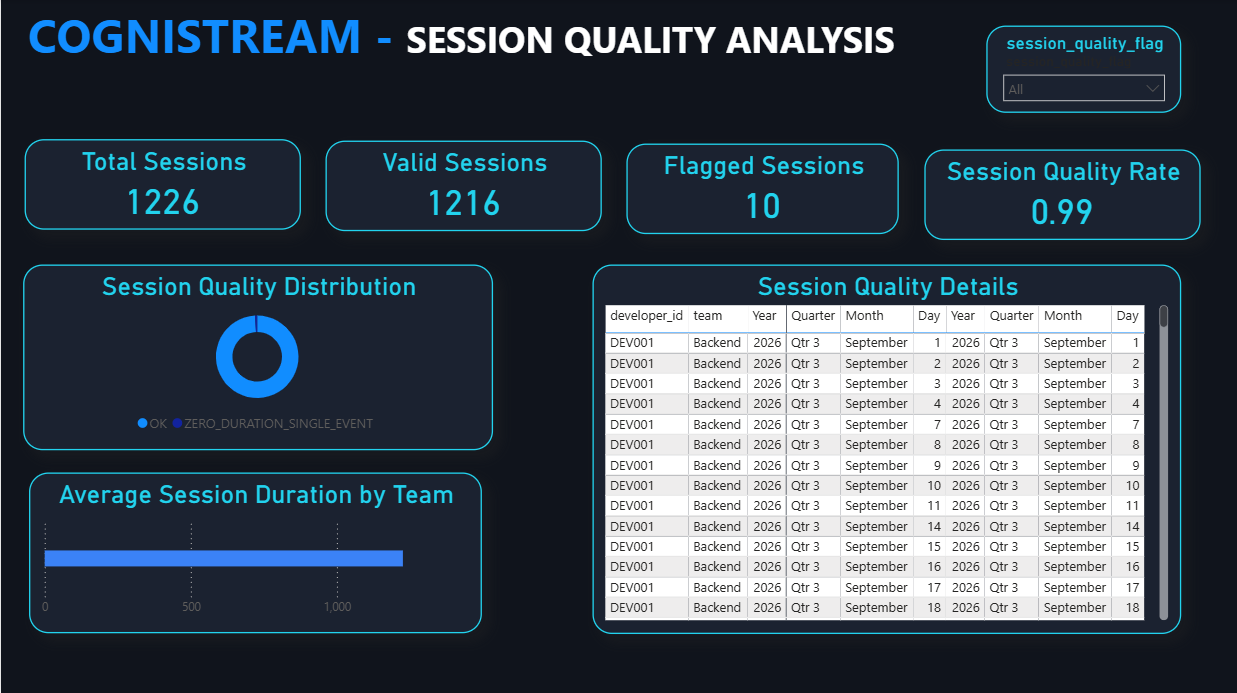

What the dashboard file says about the page in this screenshot:
{"tool":"powerbi","page":{"name":"Session Quality","canvas":[1280,720],"ordinal":2},"visuals":[{"type":"card","title":"Total Sessions","fields":{"Values":["event_overview.Session Count"]},"box":[24.4,145,285.6,93.9],"z":0},{"type":"card","title":"Valid Sessions","fields":{"Values":["event_overview.Valid Sessions"]},"box":[334.5,146.7,285.6,93.9],"z":1000},{"type":"card","title":"Session Quality Rate","fields":{"Values":["event_overview.Session Quality Rate"]},"box":[954.2,154.7,285.6,93.9],"z":2000},{"type":"card","title":"Flagged Sessions","fields":{"Values":["event_overview.Flagged Sessions"]},"box":[645.5,148.7,281.7,93.9],"z":3000},{"type":"donutChart","title":"Session Quality Distribution","fields":{"Category":["session_quality.session_quality_flag"],"Y":["event_overview.Session Count"]},"box":[23.5,273.9,485.1,191.7],"z":4000},{"type":"clusteredBarChart","title":"Average Session Duration by Team","fields":{"Y":["CountNonNull(session_quality.team)"]},"box":[28.5,488.6,467.5,166.2],"z":5000},{"type":"tableEx","title":"Session Quality Details","fields":{"Values":["session_quality.developer_id","session_quality.team","session_quality.session_start.Variation.Date Hierarchy.Year","session_quality.session_start.Variation.Date Hierarchy.Quarter","session_quality.session_start.Variation.Date Hierarchy.Month","session_quality.session_start.Variation.Date Hierarchy.Day","session_quality.session_end.Variation.Date Hierarchy.Year","session_quality.session_end.Variation.Date Hierarchy.Quarter","session_quality.session_end.Variation.Date Hierarchy.Month","session_quality.session_end.Variation.Date Hierarchy.Day"]},"box":[610.3,273.9,608.4,381.4],"z":6000},{"type":"slicer","title":"session_quality_flag","fields":{"Values":["session_quality.session_quality_flag"]},"box":[1017.5,27.4,201.5,90],"z":7000},{"type":"textbox","box":[23.5,0,968.3,117.4],"z":8000}]}

Visuals, with their boxes in screenshot pixels (x1, y1, x2, y2), scaled from the page's 1280x720 canvas onto the 1237x693 screenshot:
"Total Sessions" card: Rect(24, 140, 300, 230)
"Valid Sessions" card: Rect(323, 141, 599, 232)
"Session Quality Rate" card: Rect(922, 149, 1198, 239)
"Flagged Sessions" card: Rect(624, 143, 896, 234)
"Session Quality Distribution" donutChart: Rect(23, 264, 492, 448)
"Average Session Duration by Team" clusteredBarChart: Rect(28, 470, 479, 630)
"Session Quality Details" tableEx: Rect(590, 264, 1178, 631)
"session_quality_flag" slicer: Rect(983, 26, 1178, 113)
textbox: Rect(23, 0, 958, 113)
